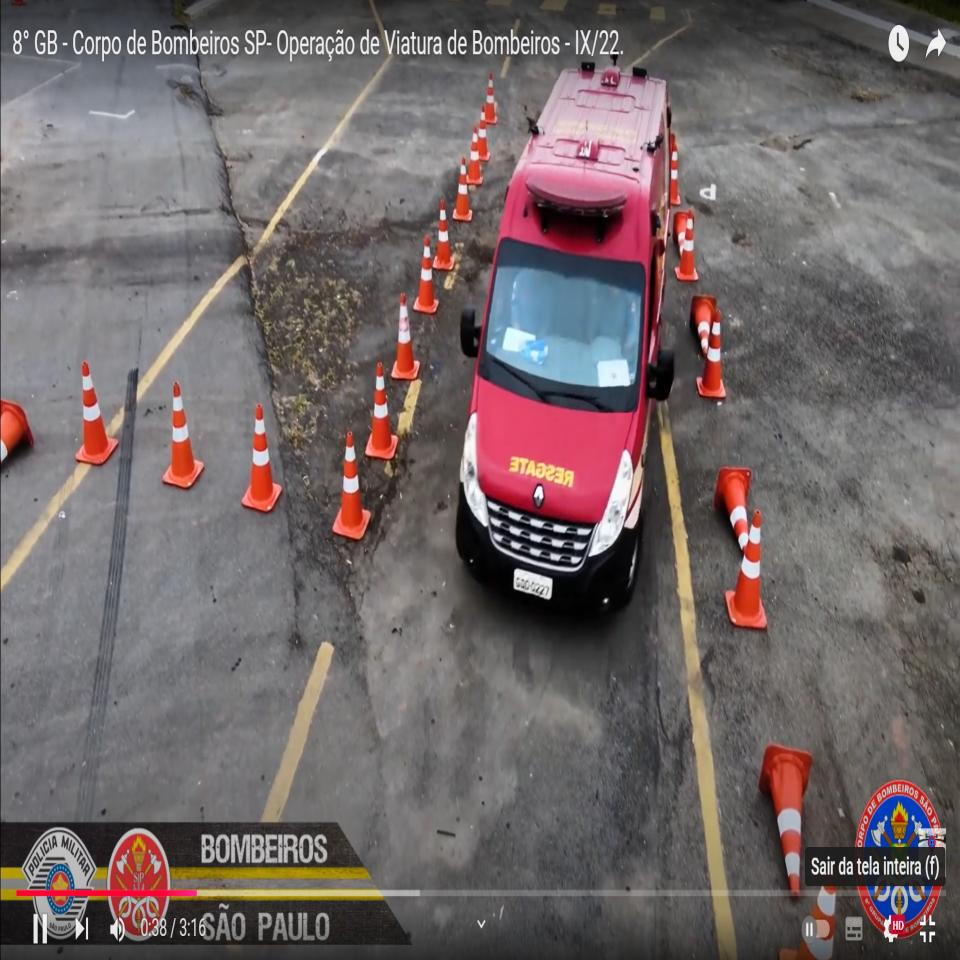viatura: (458, 55, 677, 626)
